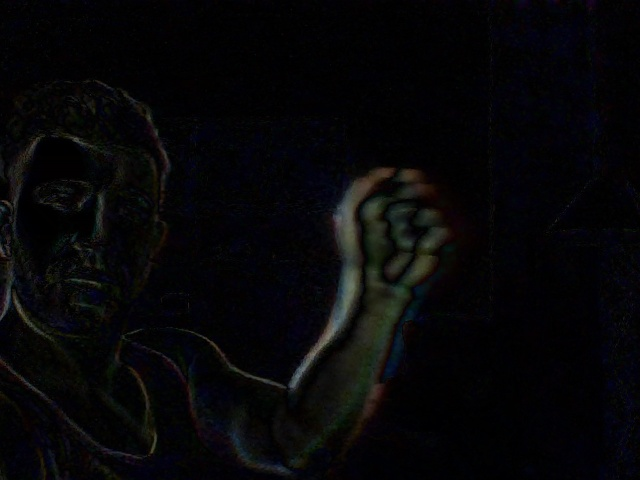hand_fi: (324, 162, 461, 293)
